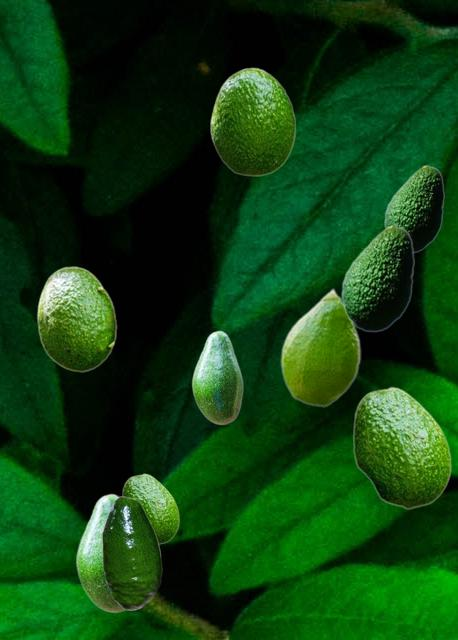avocado: (352, 386, 450, 508), (280, 287, 360, 406), (210, 67, 295, 175), (36, 266, 116, 371), (341, 225, 413, 331), (102, 496, 161, 609), (75, 493, 126, 612), (384, 165, 443, 252), (191, 330, 242, 424), (121, 473, 178, 544)
